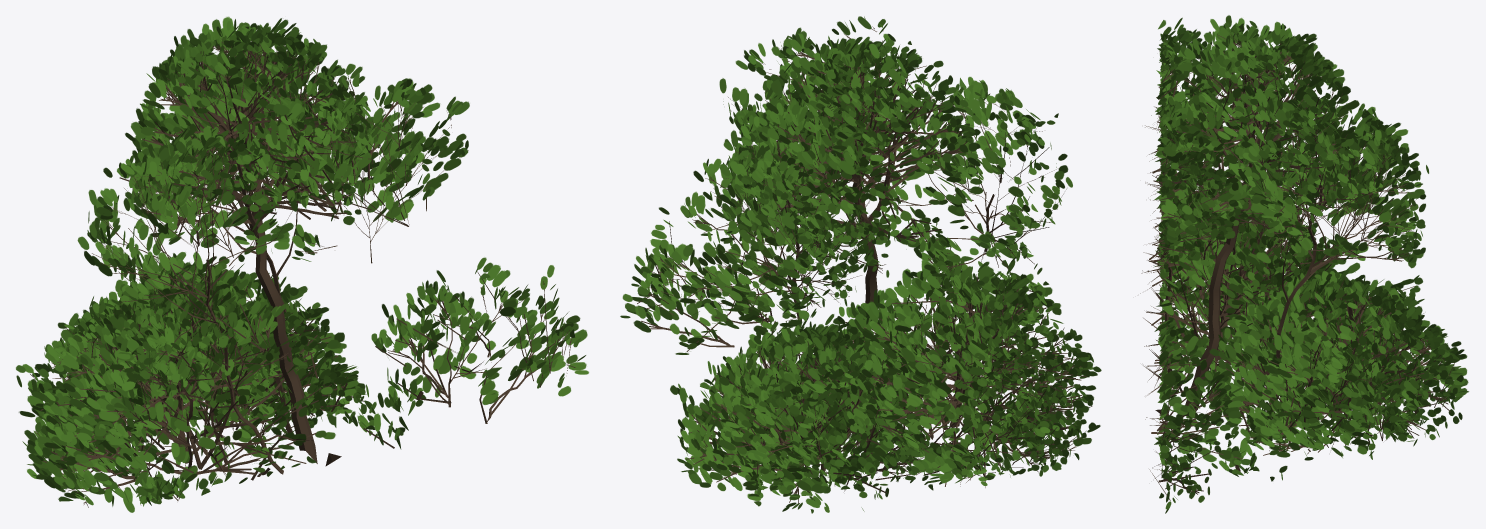
3 views of the same model, side by side, from view 1: azimuth 30°, elevation 25°; view 2: azimuth 150°, elevation 25°; view 3: azimuth 270°, elevation 25° (orthographic). The views are drawn at different scales.
Visible parts, largest first — view 1: oak 01.001_trunk_Mat.001_0.272; view 2: oak 01.001_trunk_Mat.001_0.272; view 3: oak 01.001_trunk_Mat.001_0.272.
Part boxes in pixels (x1,y1,x2,y2): oak 01.001_trunk_Mat.001_0.272: (16,16,588,512); oak 01.001_trunk_Mat.001_0.272: (620,16,1101,513); oak 01.001_trunk_Mat.001_0.272: (1140,15,1468,513).
Size of the model in its own units: 3.91 by 3.17 by 2.41.
2 materials, 1 textured.
